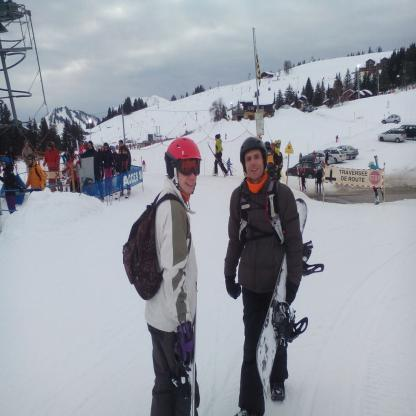Helmet: (167, 138, 203, 195), (238, 133, 268, 181)
